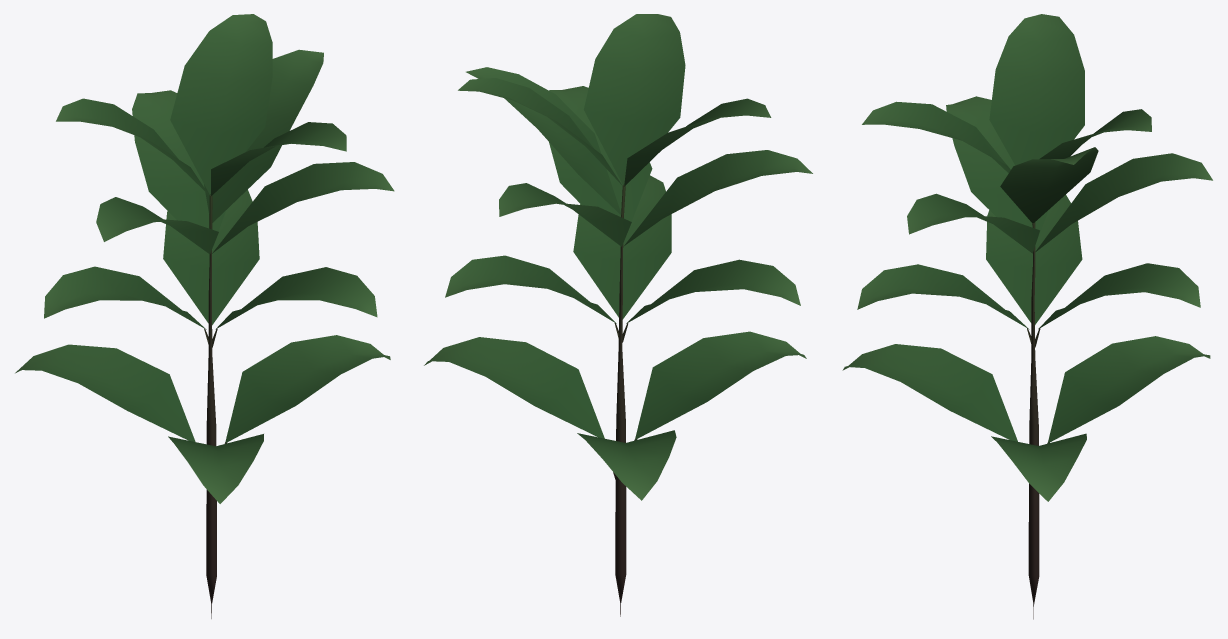
Rendered from plants-leafy-plants-rubber-plant_v2.glb.
The picture shows the model from 3 angles, left to right: view 1: azimuth 30°, elevation 25°; view 2: azimuth 150°, elevation 25°; view 3: azimuth 270°, elevation 25°; orthographic projection.
Visible parts, largest first — view 1: Rubber Plant_v2; view 2: Rubber Plant_v2; view 3: Rubber Plant_v2.
Boxes of the visible parts, x1,y1,x2,y2 form: Rubber Plant_v2: (15, 14, 394, 618); Rubber Plant_v2: (424, 14, 812, 616); Rubber Plant_v2: (842, 14, 1212, 619).
Bounding box in the file's own units: 0.5488 × 0.8 × 0.4922.
